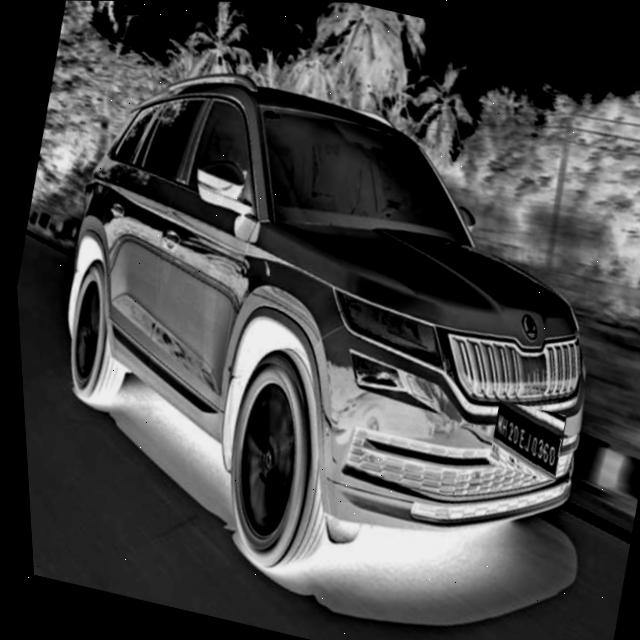Non_registered: (479, 399, 563, 479)
